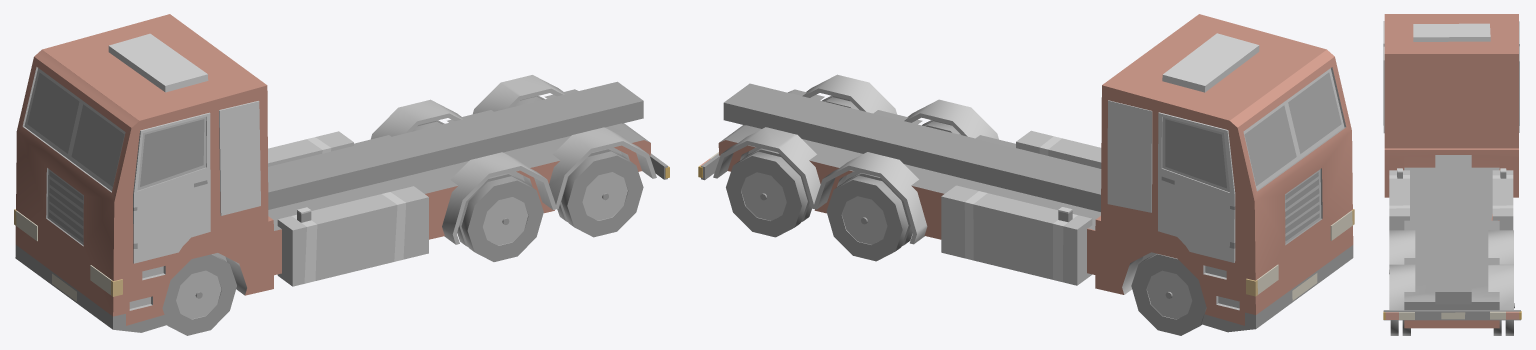
Rendered from kar6.fbx.
3 renders of one model, left to right at view 1: azimuth 30°, elevation 25°; view 2: azimuth 150°, elevation 25°; view 3: azimuth 270°, elevation 25°, orthographic. The views are drawn at different scales.
Parts seen in each view (by area): view 1: Cube_2, Extrude_1, Cylinder_4, Cylinder_3, Cylinder_1; view 2: Cube_2, Extrude_2, Cylinder_5, Cylinder, Cylinder_2; view 3: Cube_2, Cylinder, Cylinder_3, Extrude_1.
Part boxes in pixels (x1,y1,x2,y2): Cube_2: [14, 14, 669, 332]; Extrude_1: [133, 112, 210, 263]; Cylinder_4: [457, 173, 543, 261]; Cylinder_3: [557, 148, 643, 237]; Cylinder_1: [162, 254, 236, 335]; Cube_2: [698, 14, 1354, 332]; Extrude_2: [1158, 112, 1235, 262]; Cylinder_5: [826, 172, 912, 261]; Cylinder: [726, 148, 811, 237]; Cylinder_2: [1131, 253, 1206, 335]; Cube_2: [1383, 14, 1521, 328]; Cylinder: [1493, 303, 1514, 335]; Cylinder_3: [1390, 320, 1410, 335]; Extrude_1: [1383, 21, 1384, 125].
Size of the model in its own units: 821 by 333 by 251.
